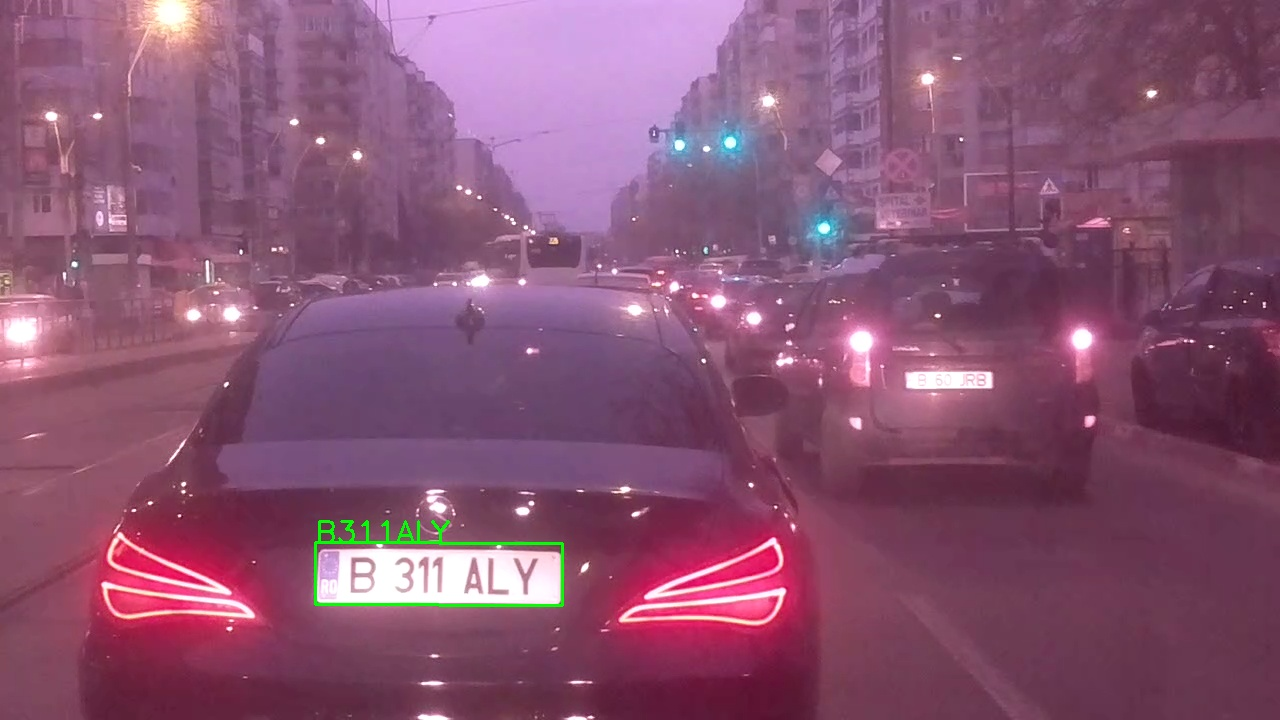license-plate: (314, 541, 564, 607)
